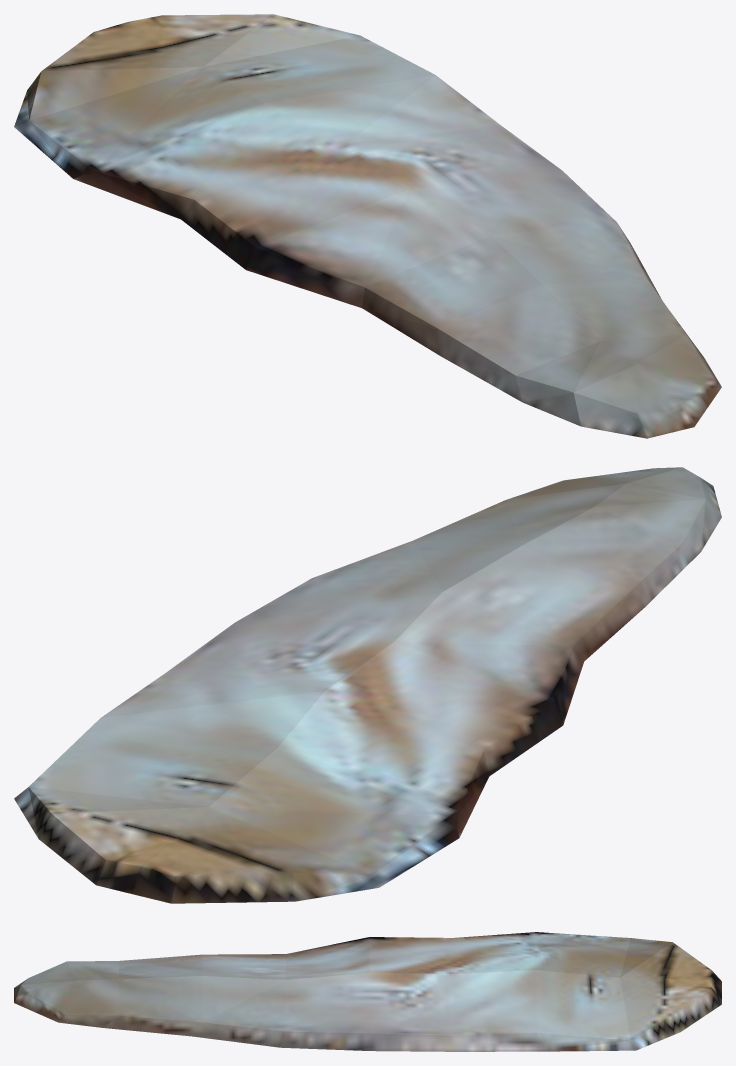
File: SleepingBag01.obj
The picture shows the model from 3 angles, top to bottom: view 1: azimuth 30°, elevation 25°; view 2: azimuth 150°, elevation 25°; view 3: azimuth 270°, elevation 25°; orthographic projection. The views are drawn at different scales.
Parts seen in each view (by area): view 1: SleepingBag01; view 2: SleepingBag01; view 3: SleepingBag01.
Boxes of the visible parts, left/top/right/bottom form: SleepingBag01: left=14, top=14, right=721, bottom=438; SleepingBag01: left=14, top=467, right=721, bottom=903; SleepingBag01: left=14, top=932, right=721, bottom=1051.
Size of the model in its own units: 1.77 by 0.1887 by 4.56.
